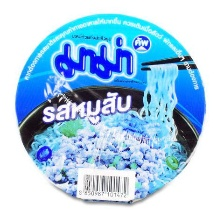paper_cup: (9, 7, 211, 209)
